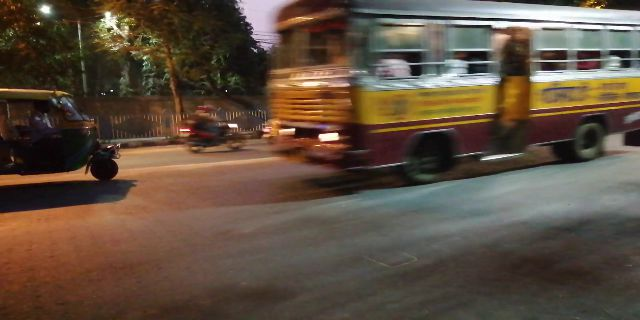Autorickshaw: (12, 89, 123, 185)
Bus: (273, 1, 634, 175)
Motorbike: (173, 101, 245, 158)
